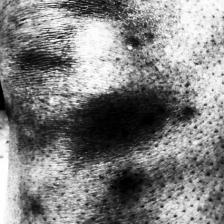Non-Cancerous Skin Condition: (117, 177, 133, 187)
